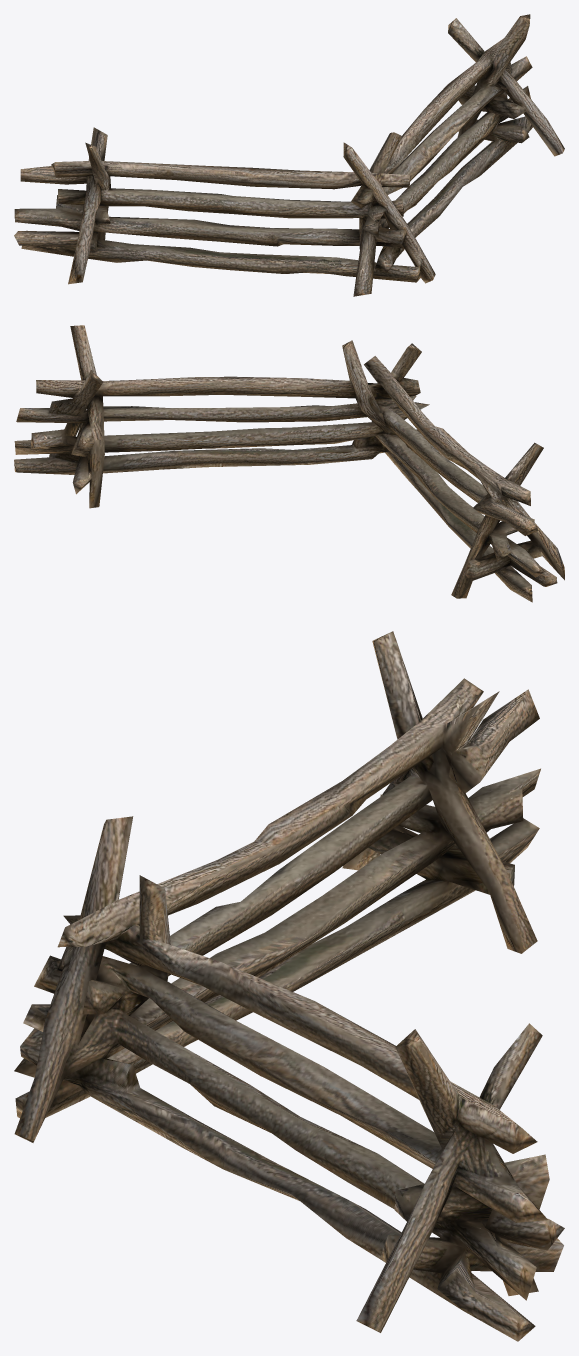
File: tripo_convert_2472e70d-3194-4567-87d1-79928ec3a474.fbx
3 views of the same model, one above another, from view 1: azimuth 30°, elevation 25°; view 2: azimuth 150°, elevation 25°; view 3: azimuth 270°, elevation 25° (orthographic). The views are drawn at different scales.
Visible parts, largest first — view 1: tripo_node_2472e70d; view 2: tripo_node_2472e70d; view 3: tripo_node_2472e70d.
Boxes of the visible parts, x1,y1,x2,y2 form: tripo_node_2472e70d: (14,14,564,296); tripo_node_2472e70d: (14,325,564,602); tripo_node_2472e70d: (14,631,564,1341).
Size of the model in its own units: 0.9805 by 0.2742 by 0.4441.
1 material, 1 textured.
